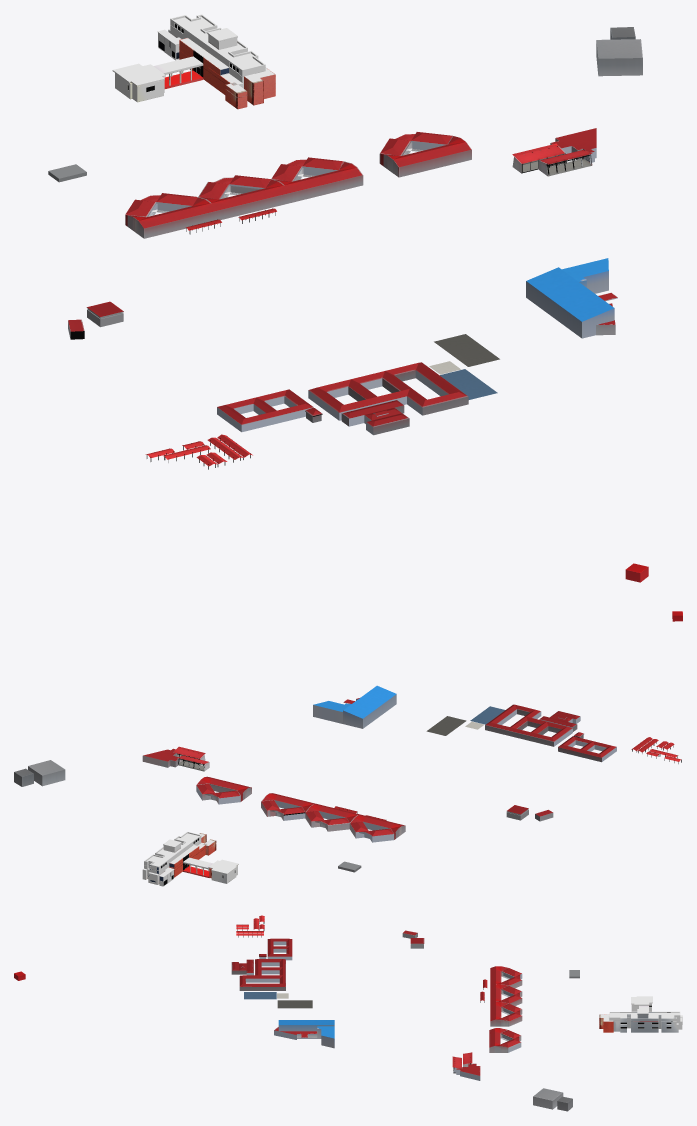
3 renders of one model, top to bottom at view 1: azimuth 30°, elevation 25°; view 2: azimuth 150°, elevation 25°; view 3: azimuth 270°, elevation 25°, orthographic. The views are drawn at different scales.
Visible parts, largest first — view 1: Hall 004, Hall 003.010; view 2: Hall 004, Hall 003.010; view 3: Hall 004, Hall 003.010.
Part boxes in pixels (x1=…): Hall 004: x1=48, y1=27, x2=648, y2=582; Hall 003.010: x1=112, y1=14, x2=275, y2=109; Hall 004: x1=14, y1=611, x2=682, y2=872; Hall 003.010: x1=142, y1=832, x2=238, y2=886; Hall 004: x1=14, y1=915, x2=579, y2=1111; Hall 003.010: x1=599, y1=996, x2=682, y2=1032.
Bounding box in the file's own units: 444 × 19.79 × 650.
Materials: 2 (2 with a texture image).
